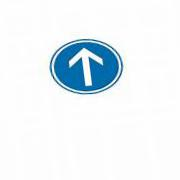forward: (50, 38, 124, 95)
